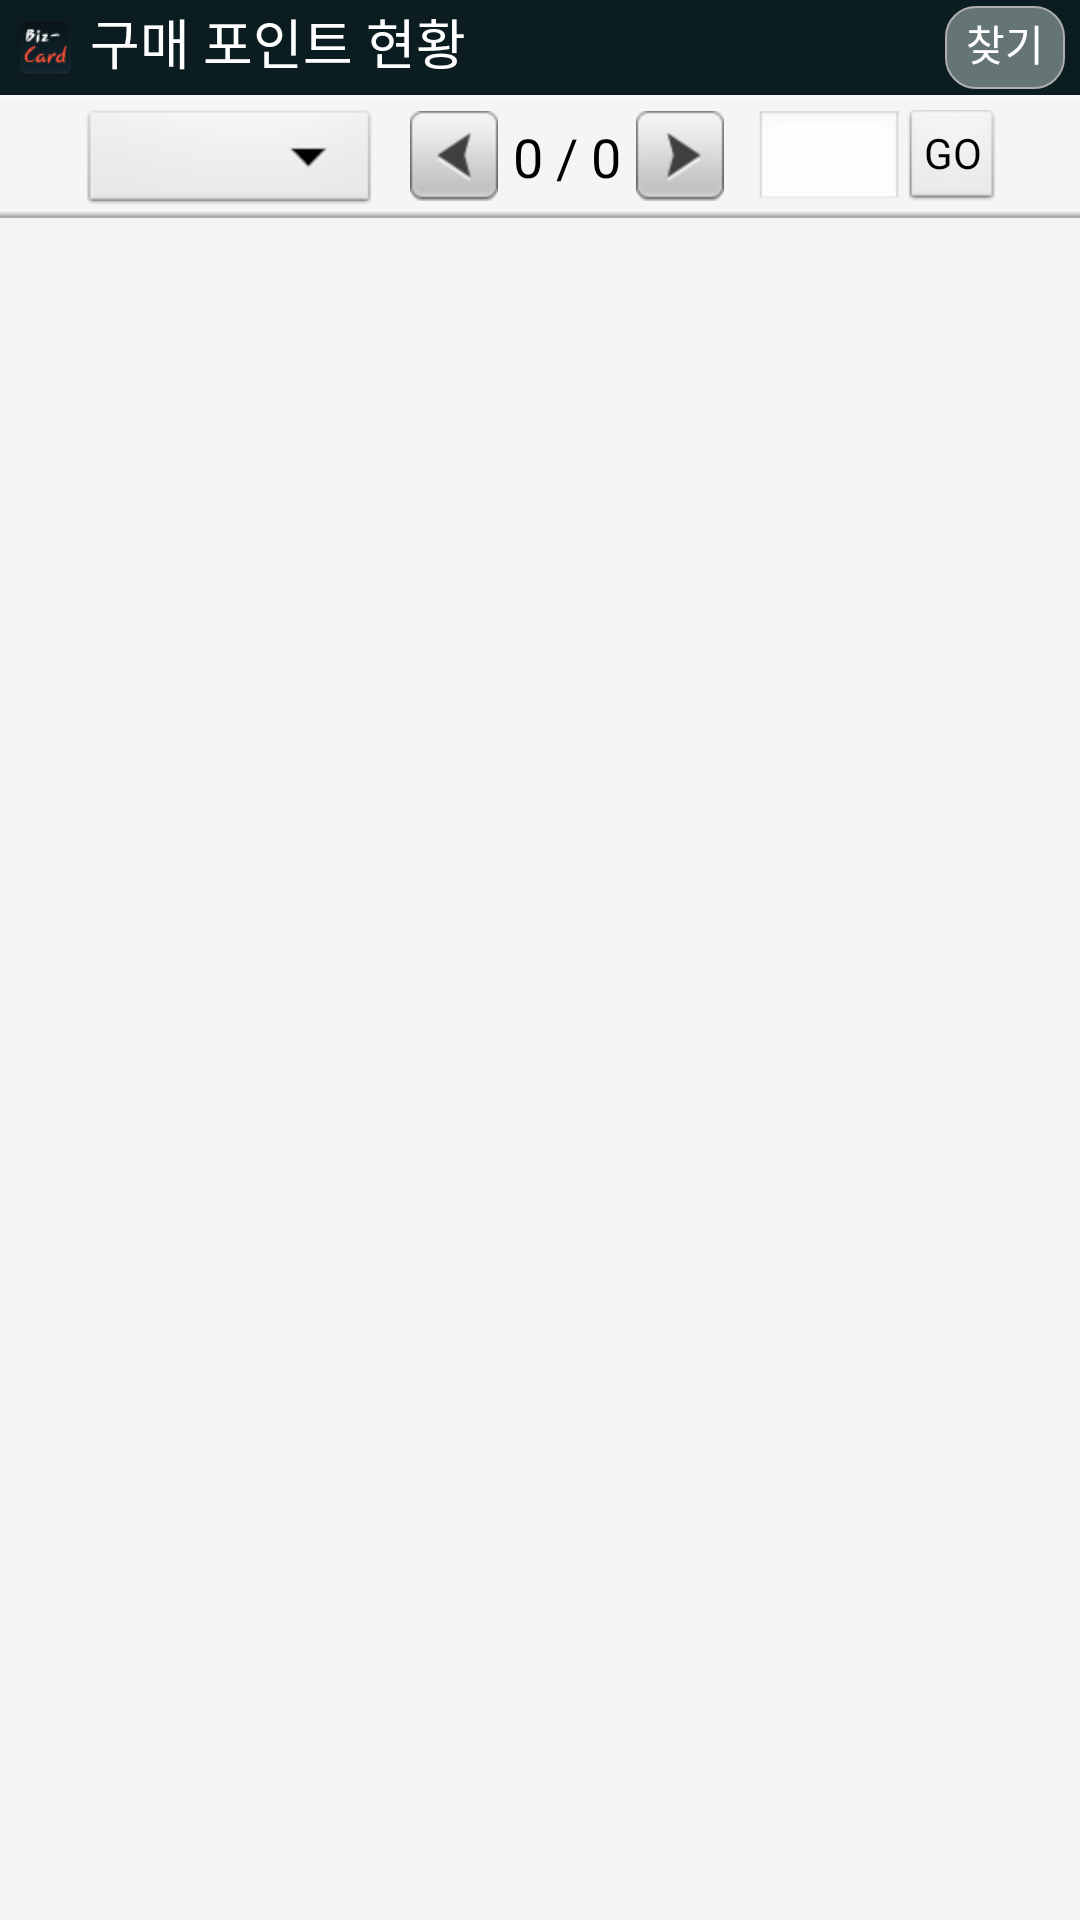

Where to tap for icons on this 1080×1920 app screen, as (x=x, y=y):
han photo next: (x=680, y=156)
han photo prev: (x=454, y=156)
